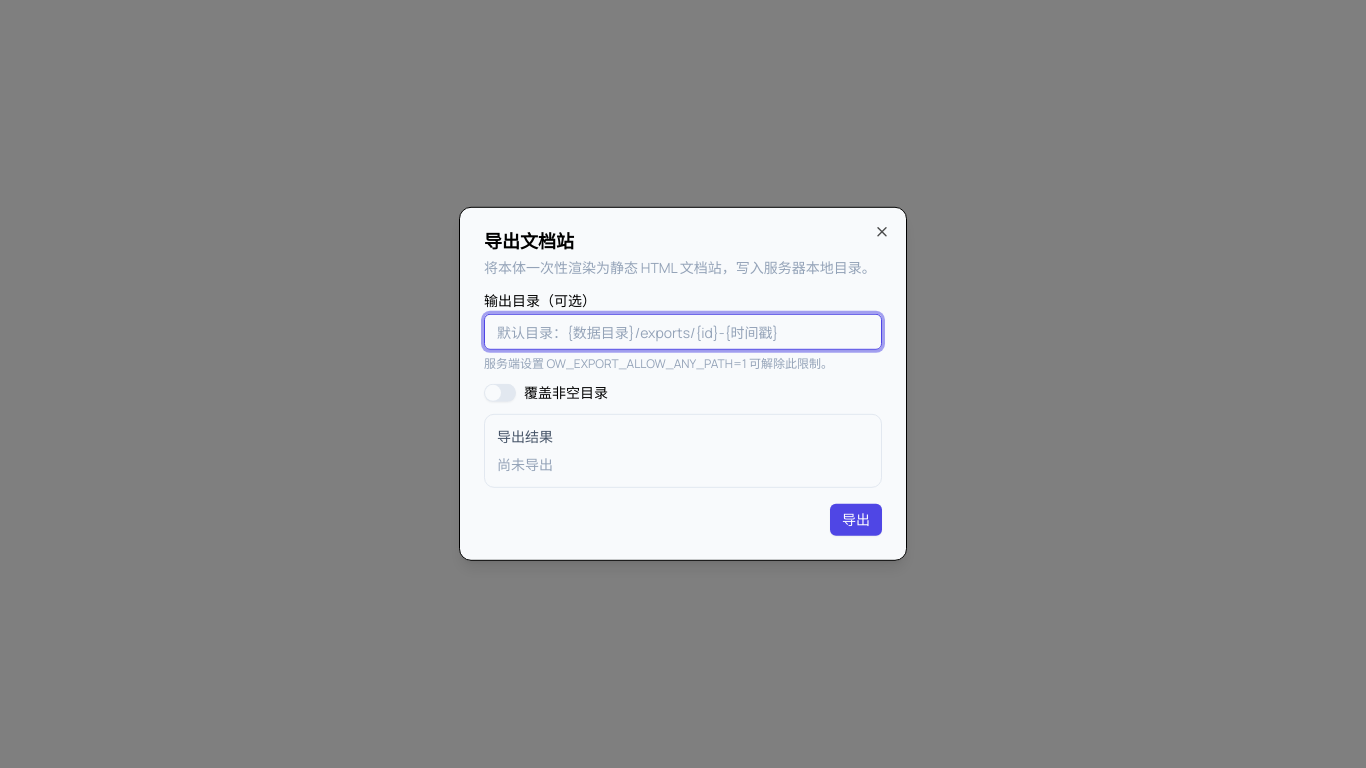
Test: ExportDialog › resets the previous result when the dialog reopens
This screenshot has width=1366, height=768.
Click the button "导出" at (856, 520), box x1=830 y1=504 x2=882 y2=536
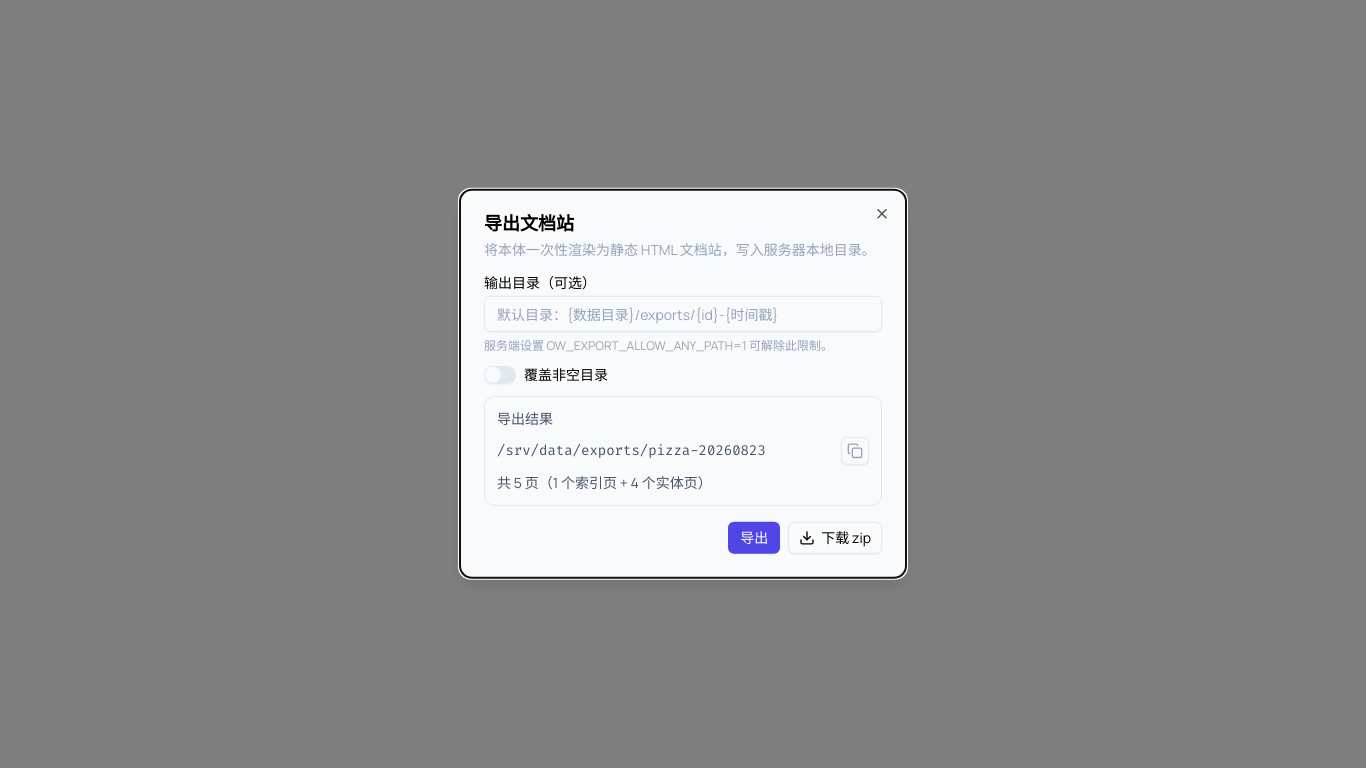
Expected: the text "/srv/data/exports/pizza-20260823" is shown, x1=497 y1=441 x2=766 y2=460
# Radix handles Escape as the user-side close path.
Press Escape
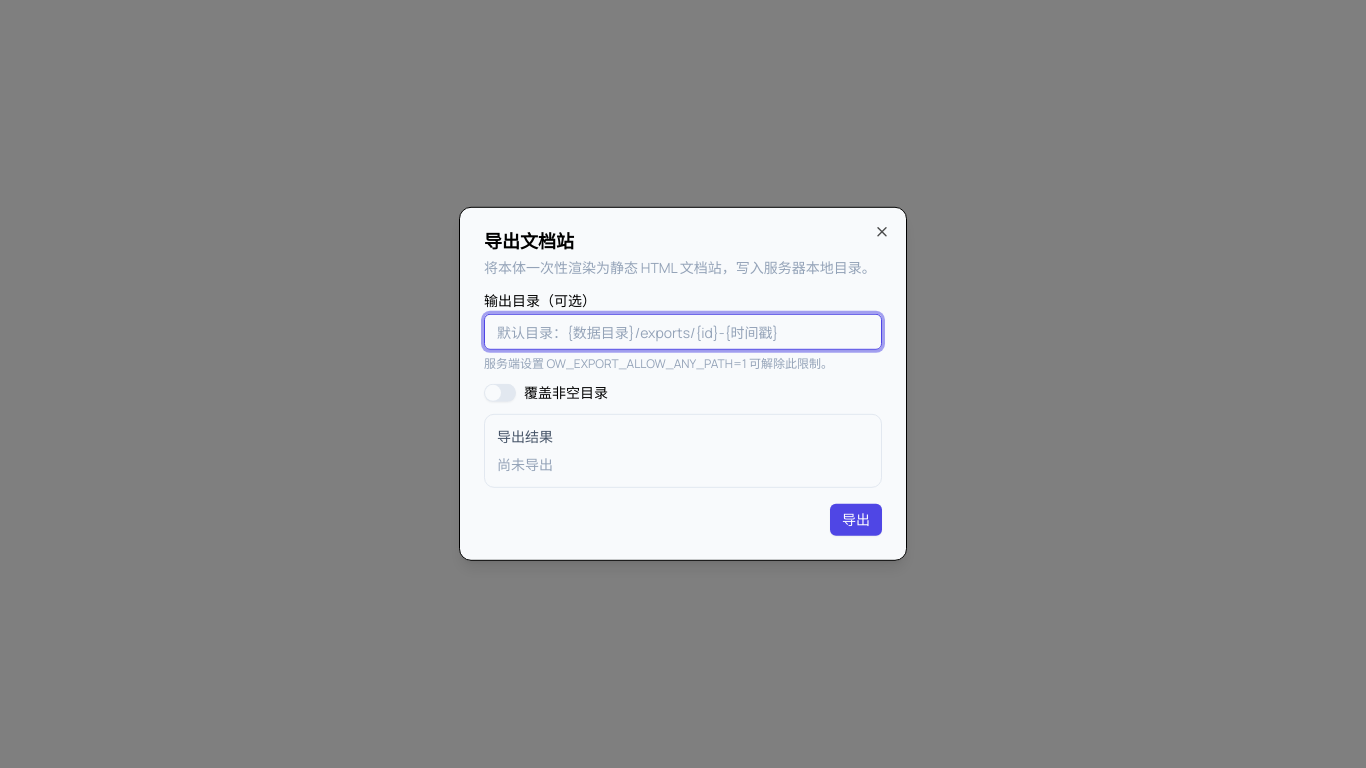
Expected: the text "/srv/data/exports/pizza-20260823" is gone
Expected: the text "尚未导出" is shown, x1=497 y1=455 x2=553 y2=474
Expected: the button "下载 zip" is gone
